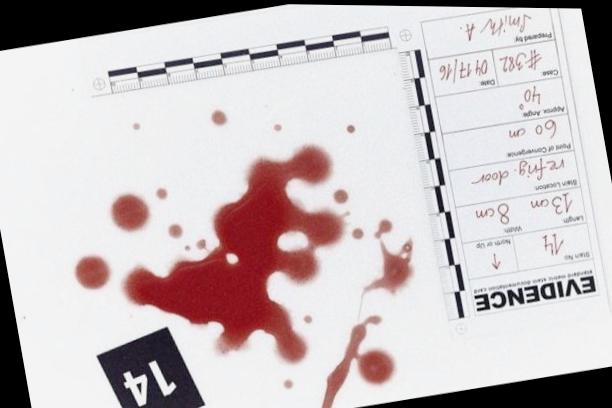Fire: (121, 143, 350, 365), (322, 315, 397, 408), (362, 236, 415, 296), (110, 194, 150, 233), (74, 255, 111, 291), (374, 219, 393, 238), (210, 109, 228, 126), (168, 224, 183, 239), (334, 188, 348, 204), (352, 226, 364, 240)
